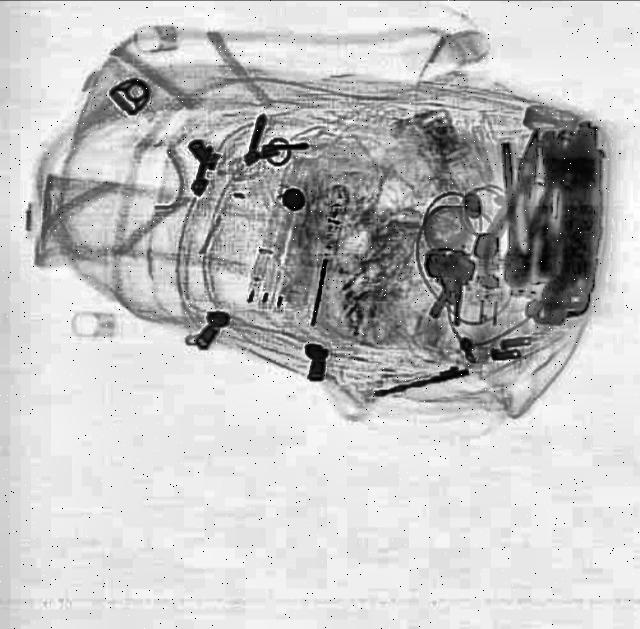Pliers: (474, 126, 562, 290), (486, 143, 558, 291)
